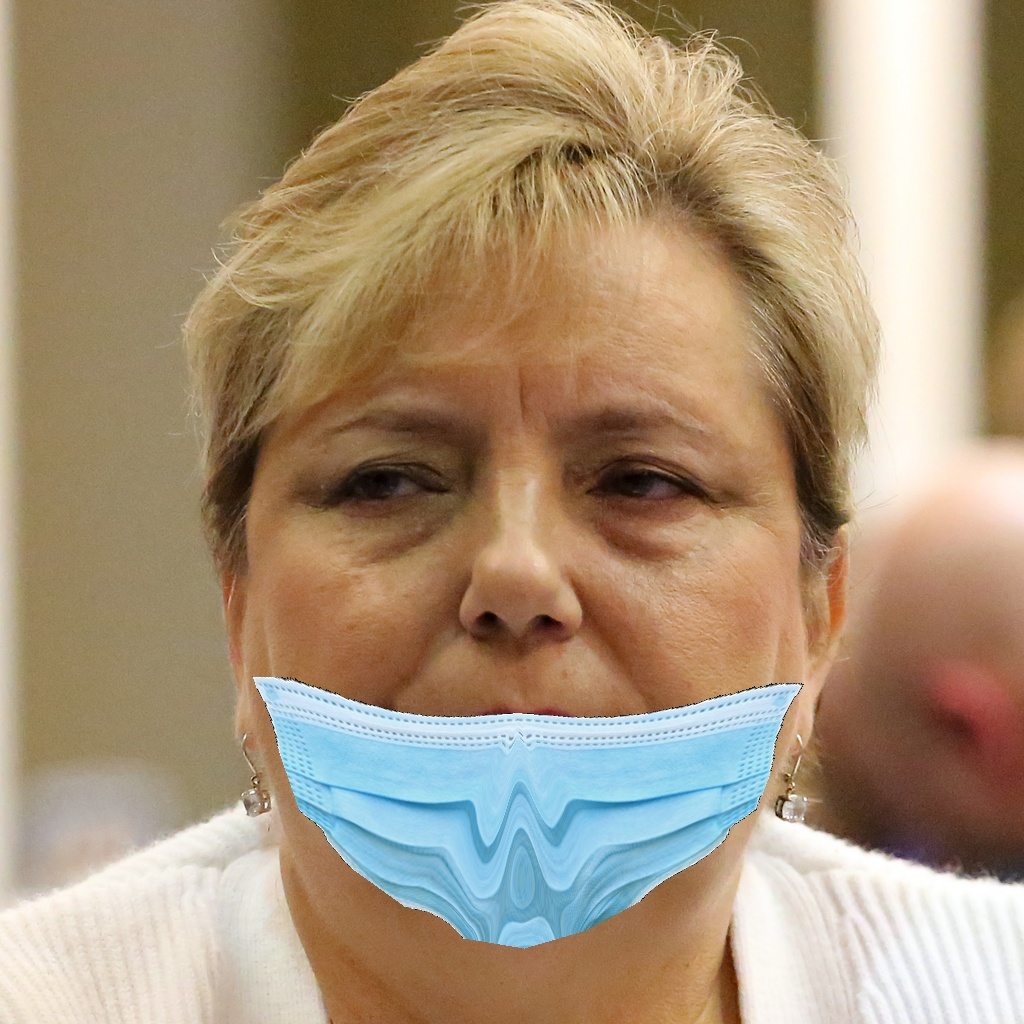mascarilla_mal_puesta: (209, 395, 847, 938)
